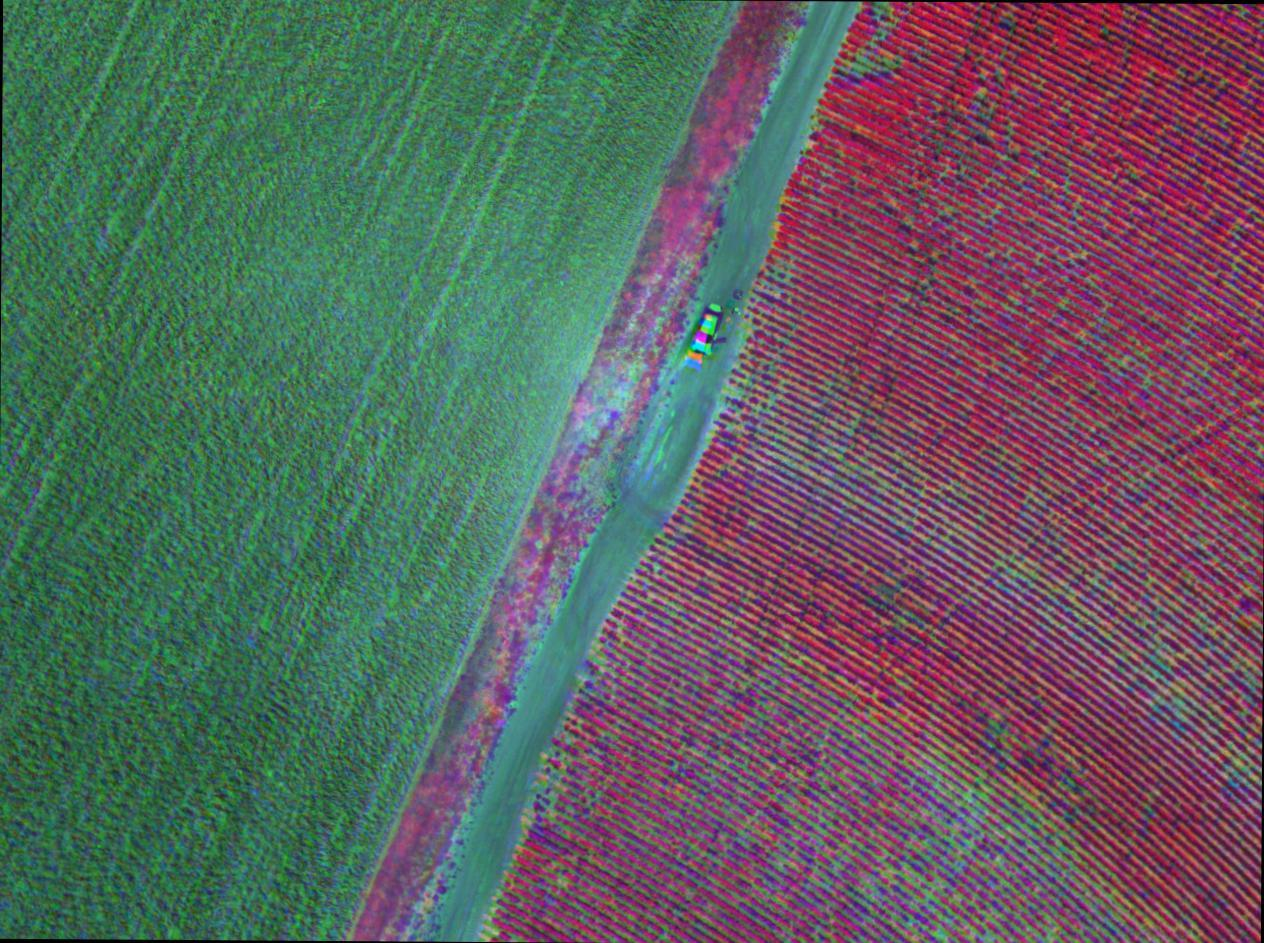dc: (491, 928, 497, 934), (939, 932, 945, 938), (745, 323, 750, 328), (732, 389, 737, 394), (551, 797, 556, 802), (597, 659, 601, 664), (855, 64, 859, 68)
